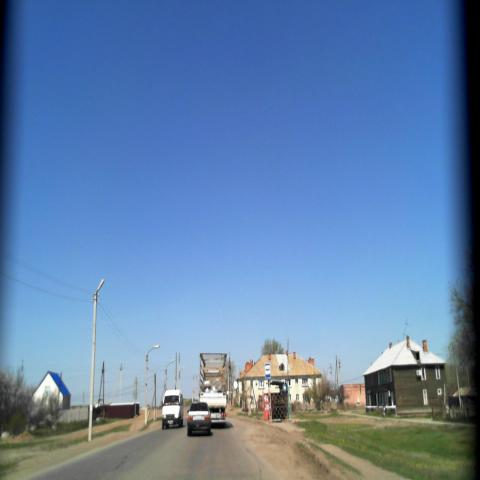5_16: (265, 361, 271, 380)
